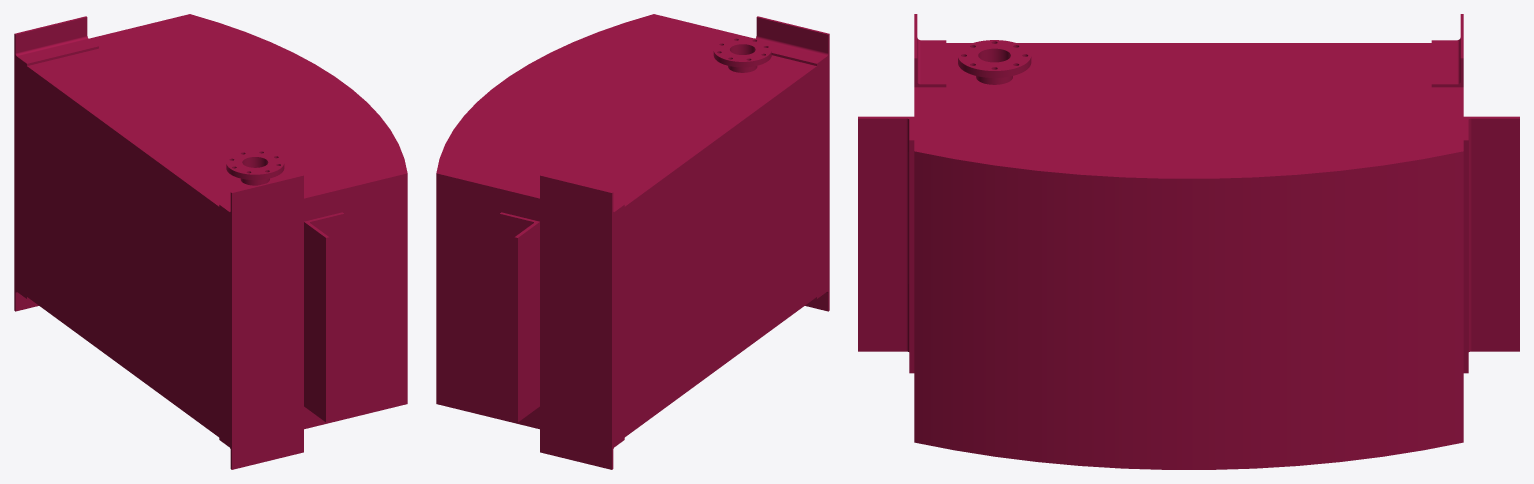
Rendered from (SBS) watertank.glb.
3 views of the same model, side by side, from view 1: azimuth 30°, elevation 25°; view 2: azimuth 150°, elevation 25°; view 3: azimuth 270°, elevation 25° (orthographic). The views are drawn at different scales.
Visible parts, largest first — view 1: Solid1, Solid6, Solid7, Solid5, Solid10; view 2: Solid1, Solid7, Solid6, Solid3, Solid10; view 3: Solid1, Solid10, Solid6, Solid7.
Part boxes in pixels (x1,y1,x2,y2): Solid1: [14, 14, 407, 446]; Solid6: [14, 16, 98, 65]; Solid7: [219, 174, 303, 215]; Solid5: [219, 429, 303, 469]; Solid10: [226, 150, 284, 180]; Solid1: [436, 14, 829, 446]; Solid7: [755, 16, 829, 65]; Solid6: [540, 174, 624, 215]; Solid3: [540, 429, 624, 469]; Solid10: [713, 37, 771, 67]; Solid1: [858, 43, 1519, 469]; Solid10: [958, 40, 1031, 77]; Solid6: [1431, 14, 1463, 87]; Solid7: [914, 14, 946, 87].
Size of the model in its own units: 0.9988 by 1.2 by 2.06.
